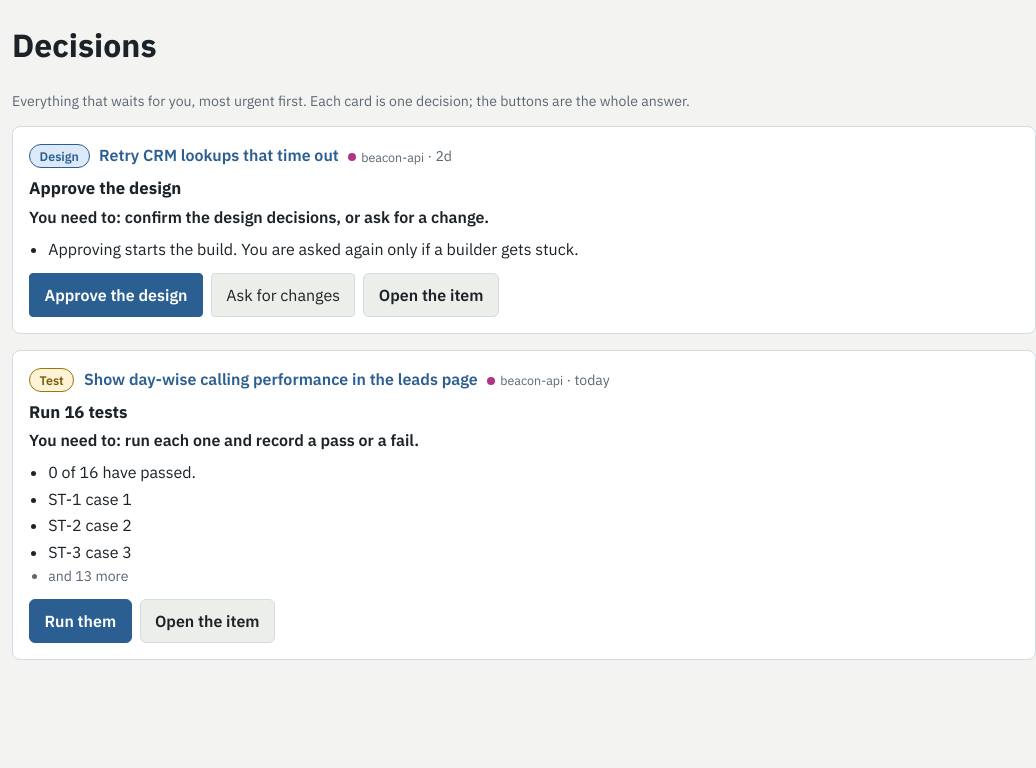
Test: DecisionsQueuePage › approves a design from the card and refreshes
Step 1. Click the button "Approve the design" → coordinates (116, 295), box [29,273,203,317]
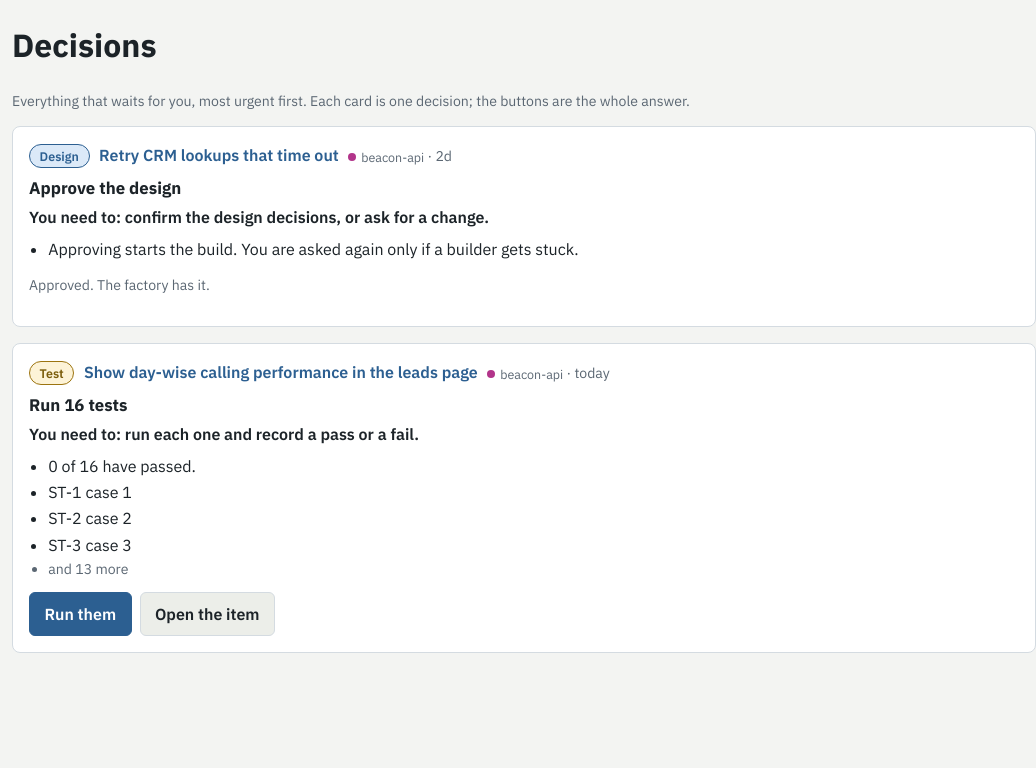
Expected: the text "Approved. The factory has it." is shown, [29,276,210,294]
